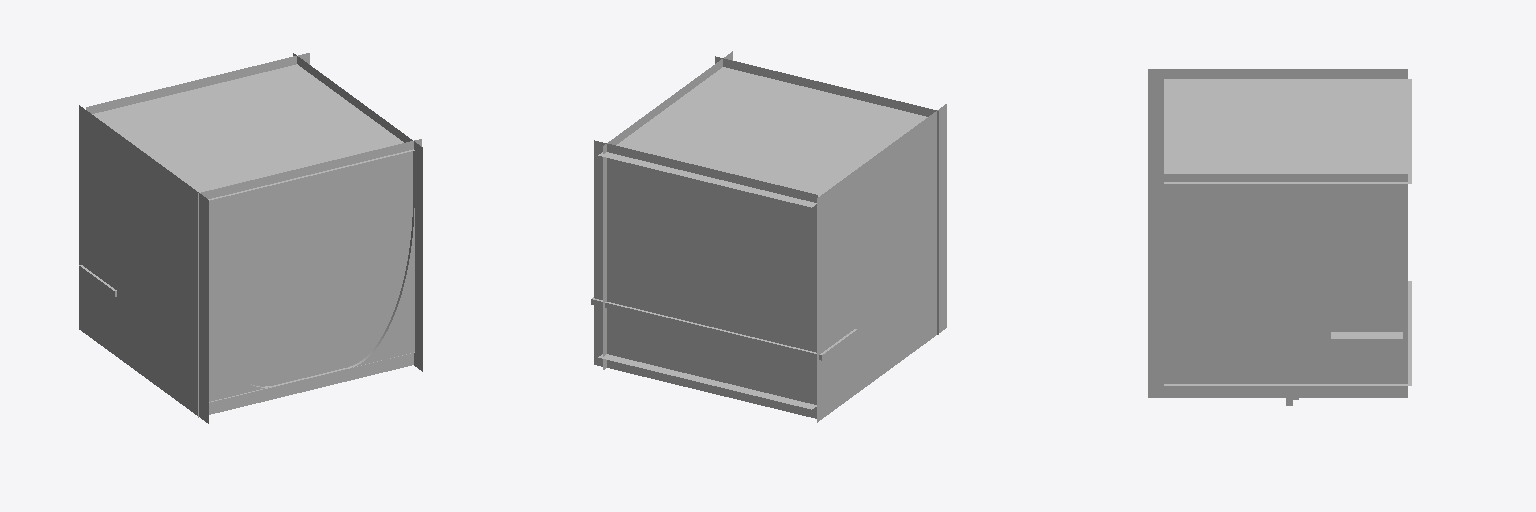
File: test-notextrures.obj
3 views of the same model, side by side, from view 1: azimuth 30°, elevation 25°; view 2: azimuth 150°, elevation 25°; view 3: azimuth 270°, elevation 25° (orthographic).
Visible parts, largest first — view 1: Wall_Front_Plane.002, Wall_Left_Plane.006, Floor_Roof_Plane.007, Wall_Right_Plane.005, Plane_Plane.001, Wall_Back_Plane.004, Plane.001_Plane.003; view 2: Wall_Back_Plane.004, Wall_Left_Plane.006, Floor_Roof_Plane.007, Wall_Front_Plane.002, Wall_Right_Plane.005, Flor_Dias_Cube.002, Floor_Ground_Plane; view 3: Wall_Right_Plane.005, Floor_Roof_Plane.007, Wall_Left_Plane.006, Floor_Ground_Plane, Flor_Dias_Cube.002.
Part boxes in pixels (x1,y1,x2,y2): Wall_Front_Plane.002: (198, 139, 421, 417); Wall_Left_Plane.006: (79, 105, 208, 423); Floor_Roof_Plane.007: (92, 64, 414, 200); Wall_Right_Plane.005: (293, 53, 422, 371); Plane_Plane.001: (350, 151, 414, 367); Wall_Back_Plane.004: (86, 53, 309, 113); Plane.001_Plane.003: (209, 294, 269, 401); Wall_Back_Plane.004: (594, 140, 817, 418); Wall_Left_Plane.006: (817, 104, 946, 422); Floor_Roof_Plane.007: (598, 67, 927, 207); Wall_Front_Plane.002: (715, 56, 938, 334); Wall_Right_Plane.005: (603, 51, 732, 369); Flor_Dias_Cube.002: (591, 297, 857, 360); Floor_Ground_Plane: (598, 354, 816, 409); Wall_Right_Plane.005: (1148, 174, 1407, 397); Floor_Roof_Plane.007: (1164, 79, 1411, 183); Wall_Left_Plane.006: (1148, 69, 1407, 173); Floor_Ground_Plane: (1164, 281, 1411, 385); Flor_Dias_Cube.002: (1331, 332, 1402, 343).
Size of the model in its own units: 13.74 by 15.01 by 13.58.